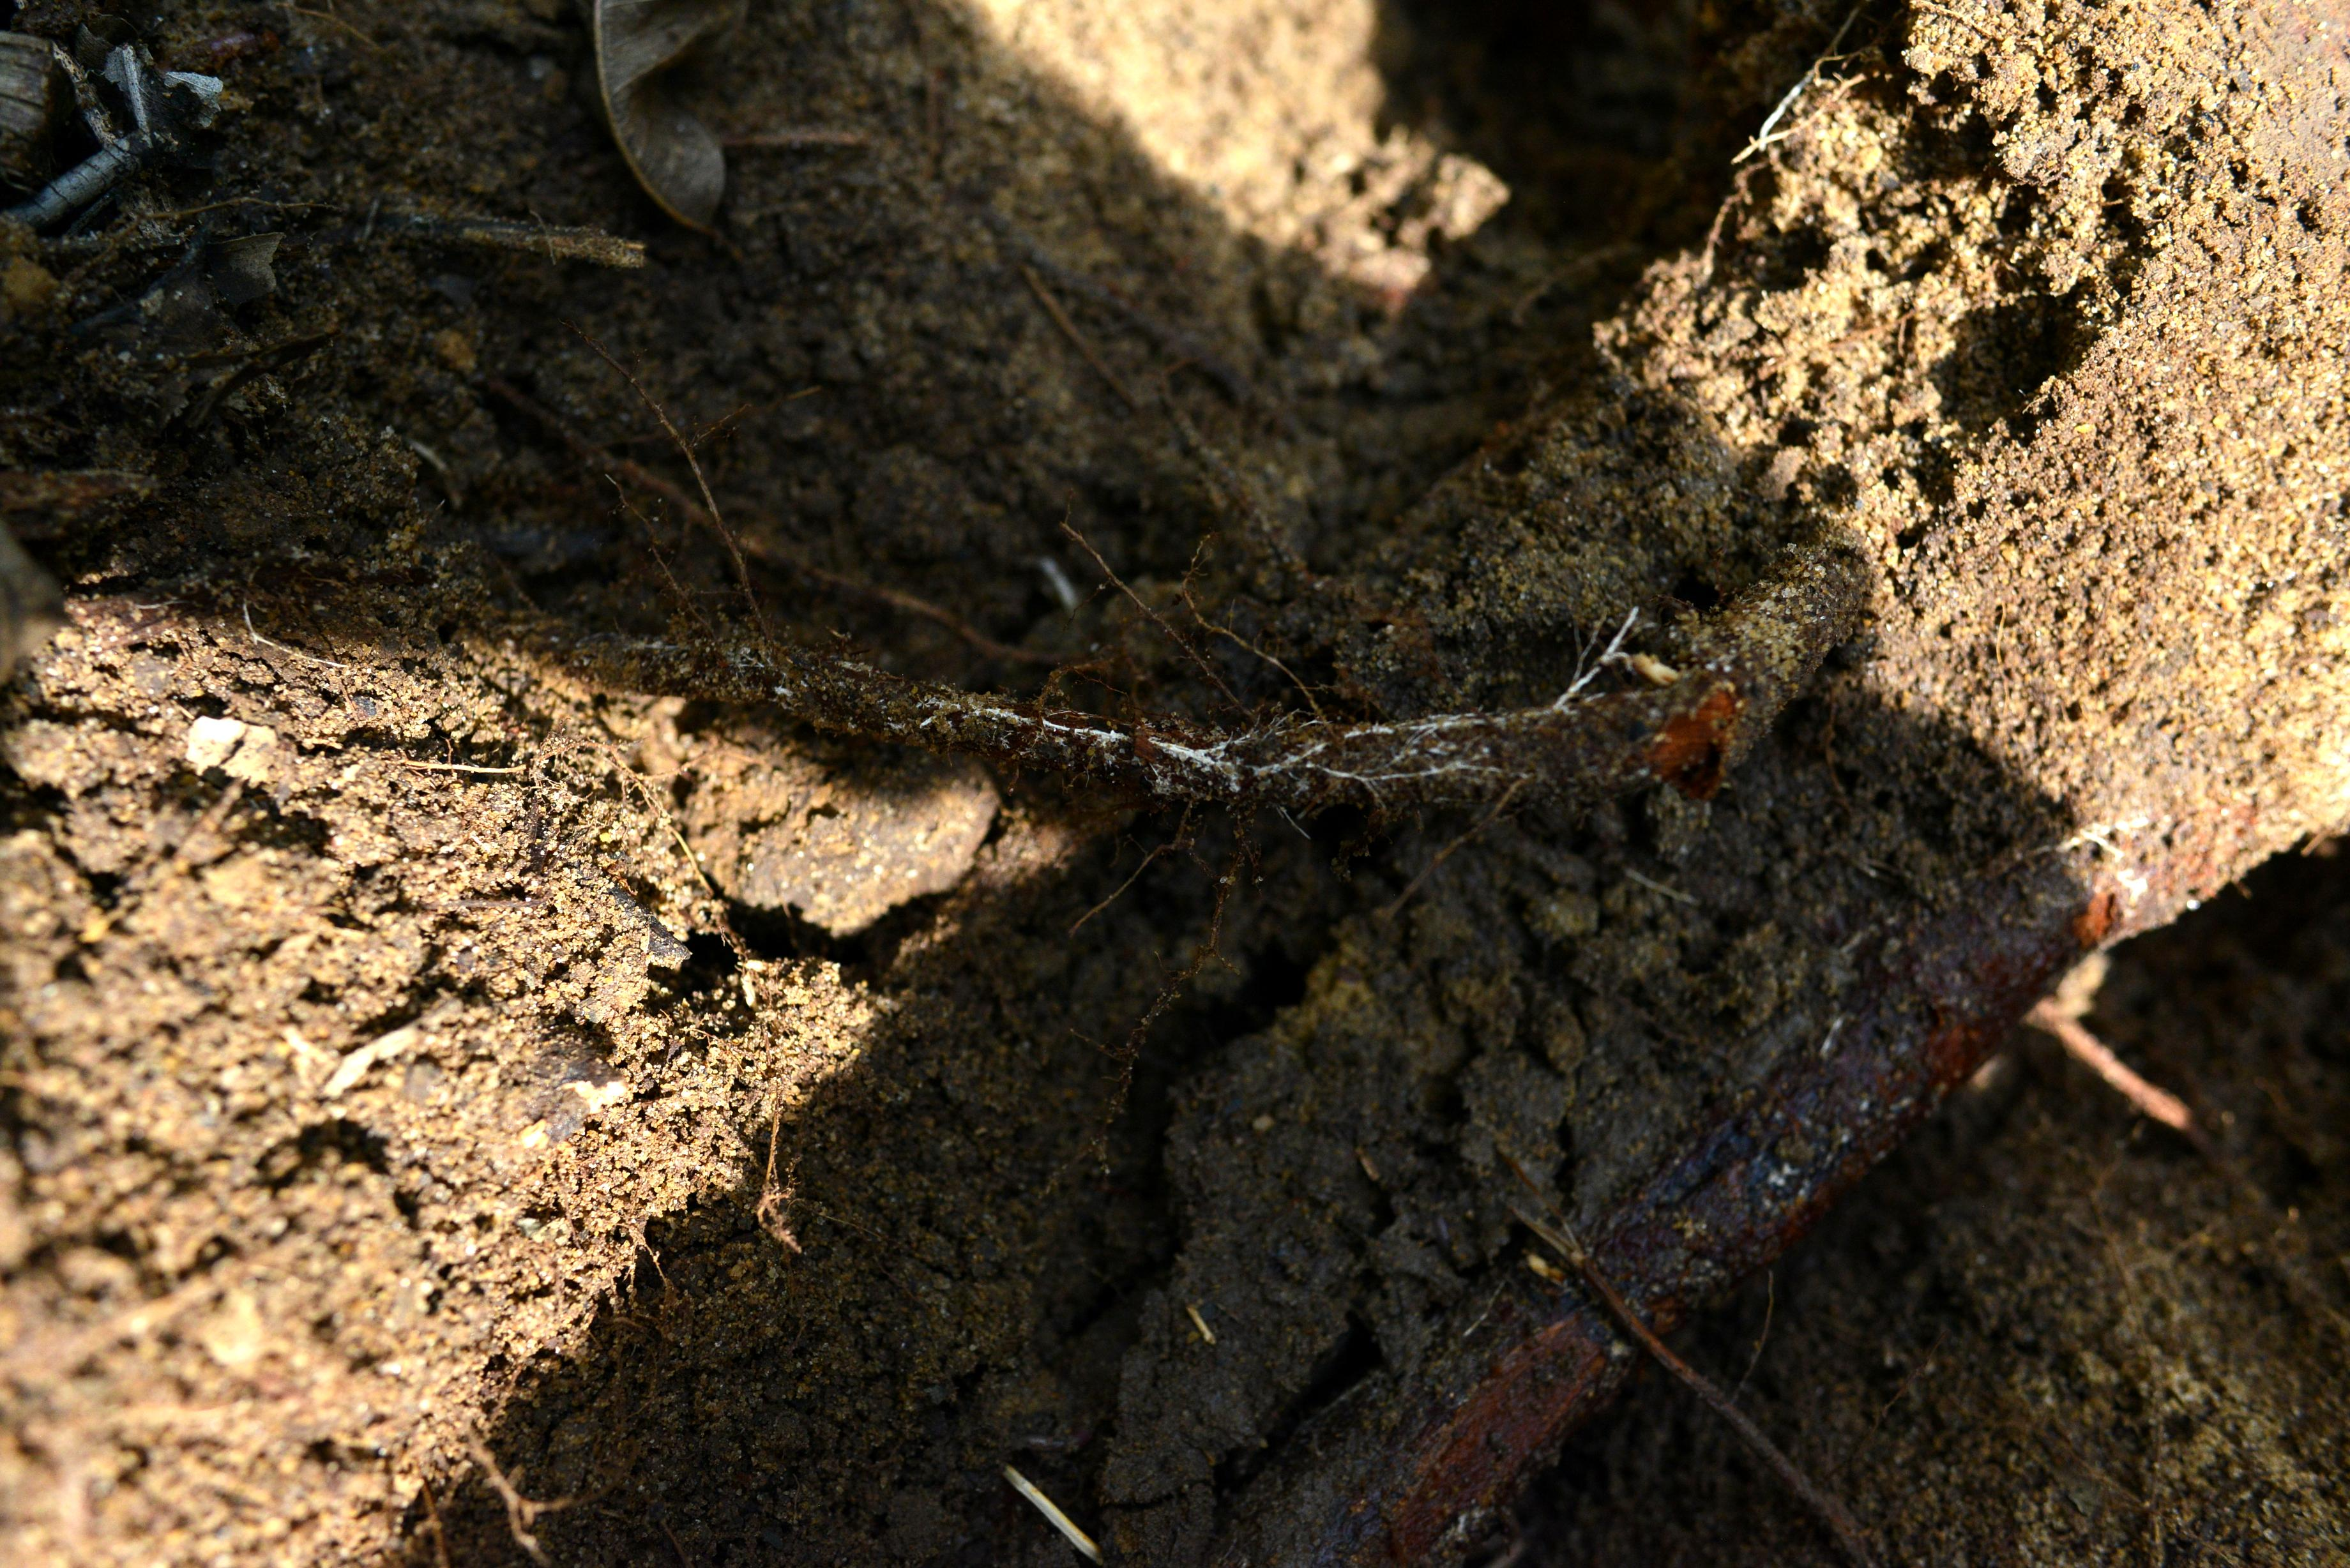Ganoderma - Mycelium: (789, 635, 1645, 812), (1731, 1015, 1886, 1249), (581, 616, 773, 702), (2068, 793, 2191, 903)
Red Root Rot - Secretion: (1384, 1304, 1629, 1559), (1654, 642, 1764, 801), (1928, 996, 2000, 1090)
